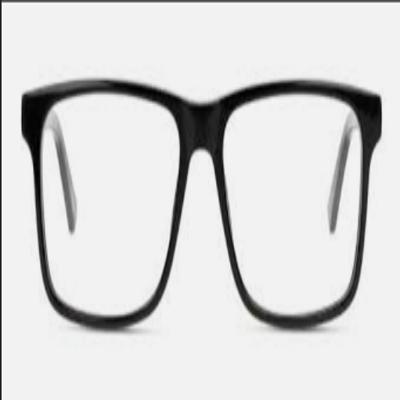glasses: (17, 77, 386, 340)
